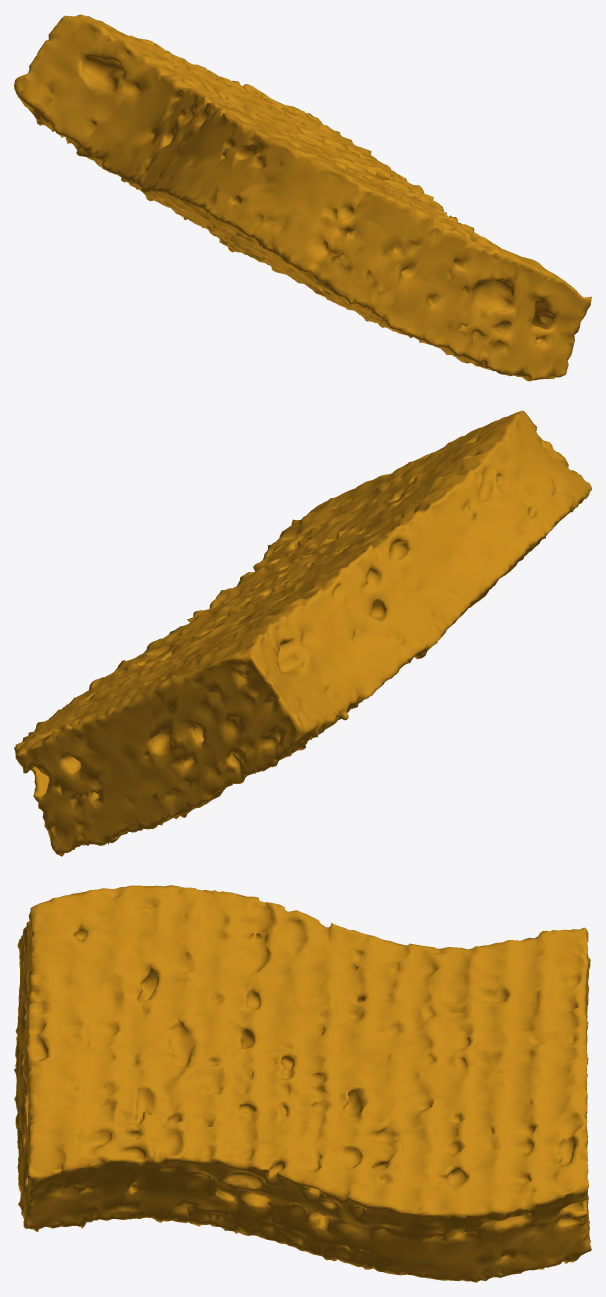
The picture shows the model from 3 angles, top to bottom: view 1: azimuth 30°, elevation 25°; view 2: azimuth 150°, elevation 25°; view 3: azimuth 270°, elevation 25°; orthographic projection. The views are drawn at different scales.
Size of the model in its own units: 0.6428 by 0.5509 by 1.
